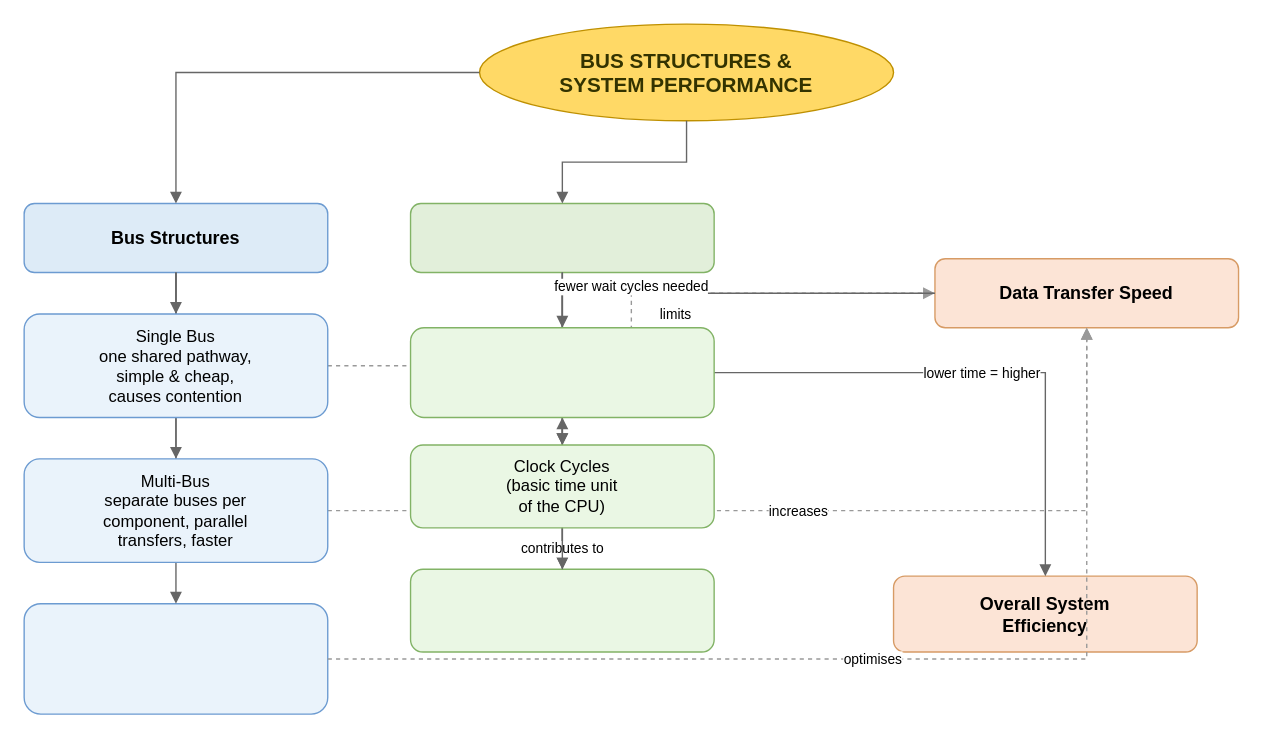
Some shapes in this 1263 by 738 pixel diagram are drawn without their labels. Here are the shapes that lost their labels. From the top down, the centre of each, then its label:
point 561,237: Performance Factors
point 561,371: CPU Execution Time Time = IC x CPI x Clock Cycle Time
point 561,610: CPI (Clock cycles Per Instruction)
point 175,658: Hierarchical Bus local + system + backplane levels, balances speed and cost
